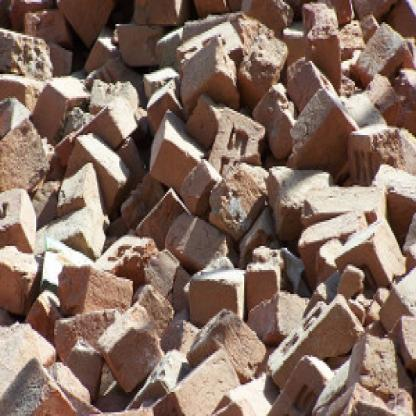brick: (0, 0, 415, 414)
